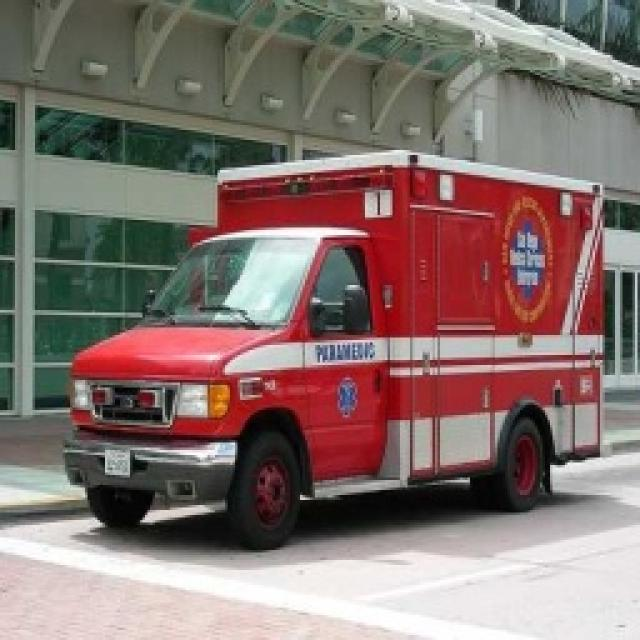emergency-vehicle: (51, 118, 634, 544)
